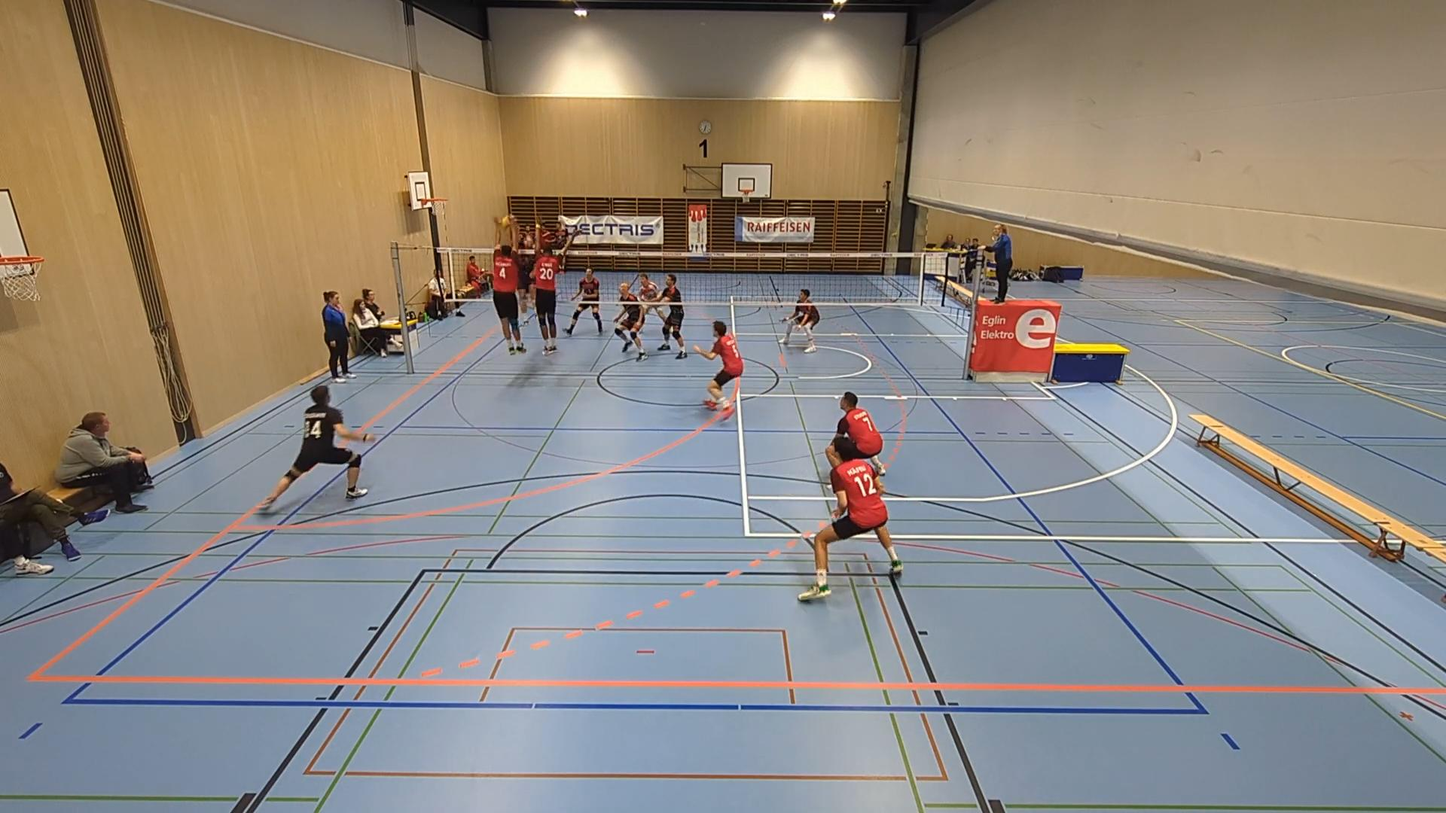Attack: (493, 211, 542, 323)
Block: (485, 213, 530, 356), (533, 220, 579, 354)
Player: (258, 385, 374, 512), (798, 459, 901, 601), (825, 391, 884, 477), (694, 321, 743, 413), (779, 288, 819, 352), (614, 282, 646, 360), (566, 268, 602, 335), (658, 275, 686, 358), (636, 273, 661, 315)
ball: (497, 211, 515, 230)
